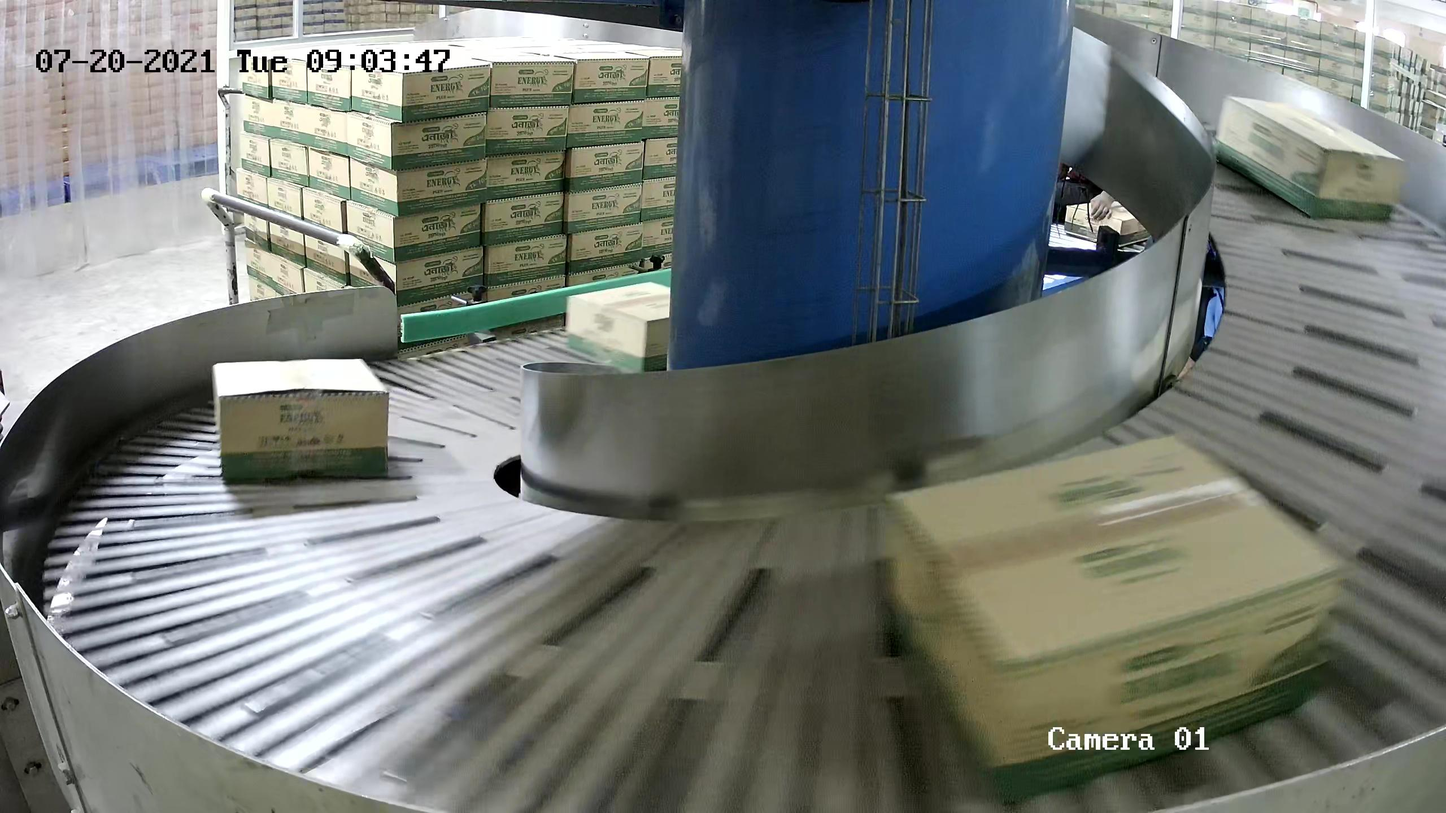Box: (885, 433, 1344, 807), (1211, 95, 1404, 223), (210, 357, 390, 487), (565, 281, 710, 381)
